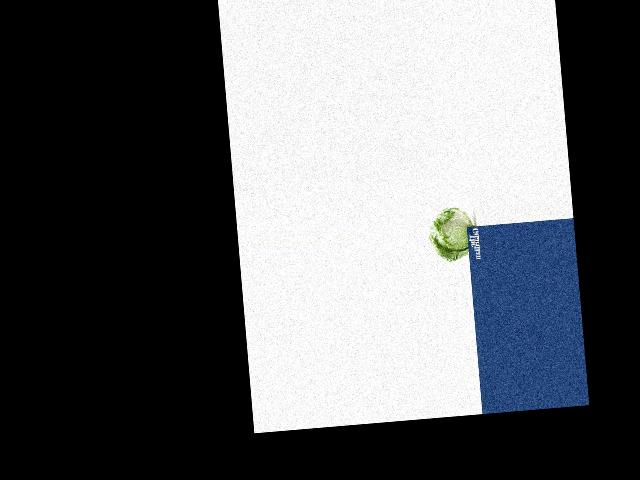lettuce: (424, 206, 475, 262)
